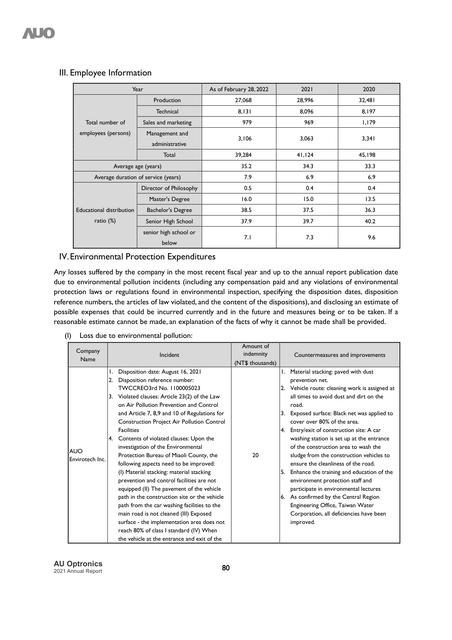box: (64, 329, 403, 547), (71, 80, 403, 252)
